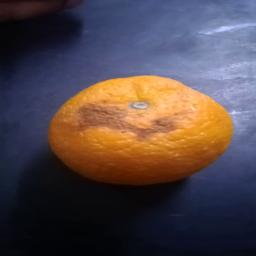Orange Semifresh: (36, 65, 239, 190)
